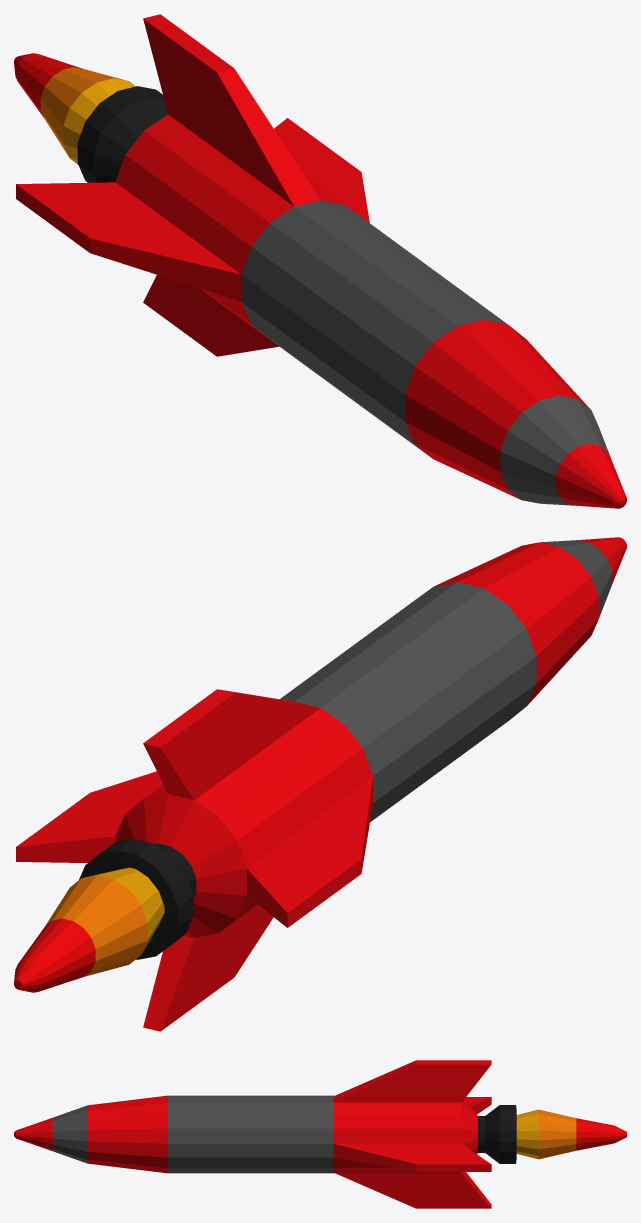
File: FastRocket.fbx
3 renders of one model, top to bottom at view 1: azimuth 30°, elevation 25°; view 2: azimuth 150°, elevation 25°; view 3: azimuth 270°, elevation 25°, orthographic. The views are drawn at different scales.
Parts seen in each view (by area): view 1: Cylinder; view 2: Cylinder; view 3: Cylinder.
Part boxes in pixels (box(x1,y1,x2,y2)): Cylinder: box(14, 14, 626, 508); Cylinder: box(14, 537, 626, 1031); Cylinder: box(14, 1060, 626, 1208).
Size of the model in its own units: 405 by 405 by 1559.
